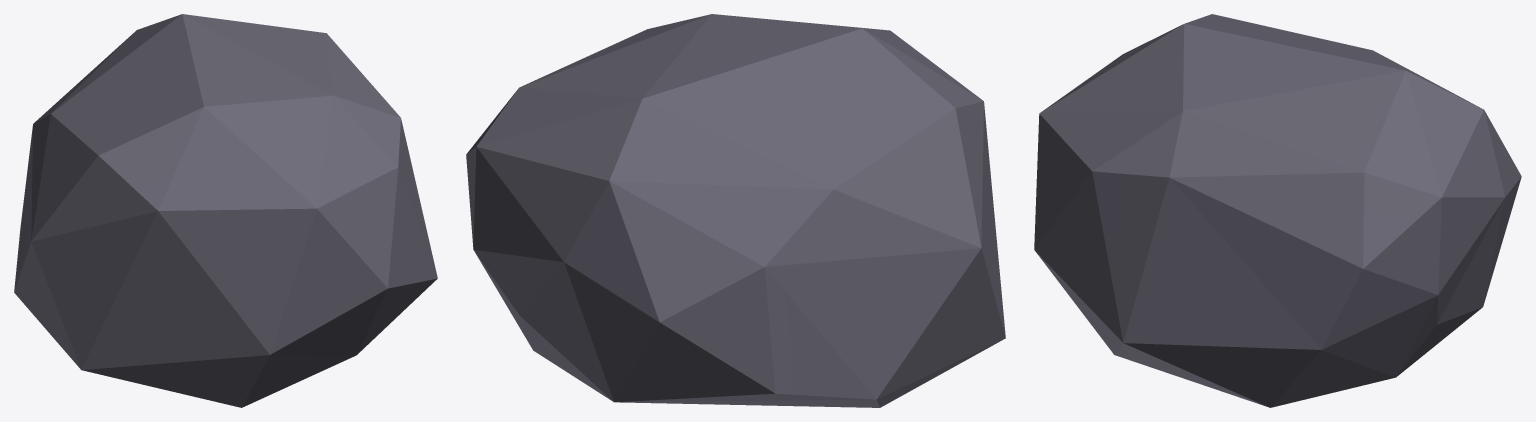
File: bigrock4.fbx
3 renders of one model, left to right at view 1: azimuth 30°, elevation 25°; view 2: azimuth 150°, elevation 25°; view 3: azimuth 270°, elevation 25°, orthographic. The views are drawn at different scales.
Parts seen in each view (by area): view 1: rock.008; view 2: rock.008; view 3: rock.008.
Boxes of the visible parts, x1,y1,x2,y2 form: rock.008: [14, 14, 437, 407]; rock.008: [466, 14, 1005, 407]; rock.008: [1034, 14, 1521, 407].
Size of the model in its own units: 156 by 114 by 159.
